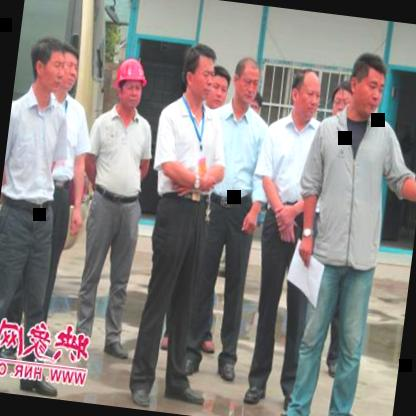head: (343, 44, 393, 123), (24, 28, 70, 98), (178, 40, 219, 104), (228, 51, 263, 112), (288, 65, 324, 124), (49, 36, 83, 94), (324, 78, 356, 130), (204, 61, 235, 108)
helmet: (107, 53, 152, 115)
